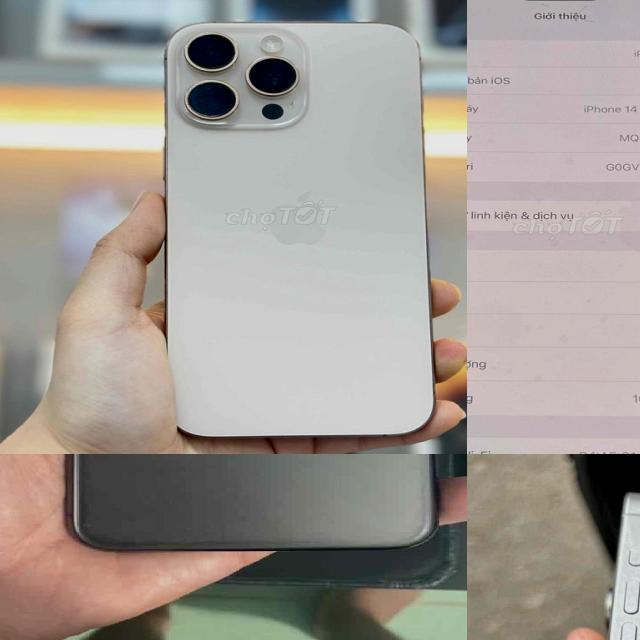gen_11: (57, 454, 442, 556)
gen_14: (467, 0, 640, 454)
gen_15: (515, 474, 640, 640)
gen_16: (143, 2, 454, 446)
